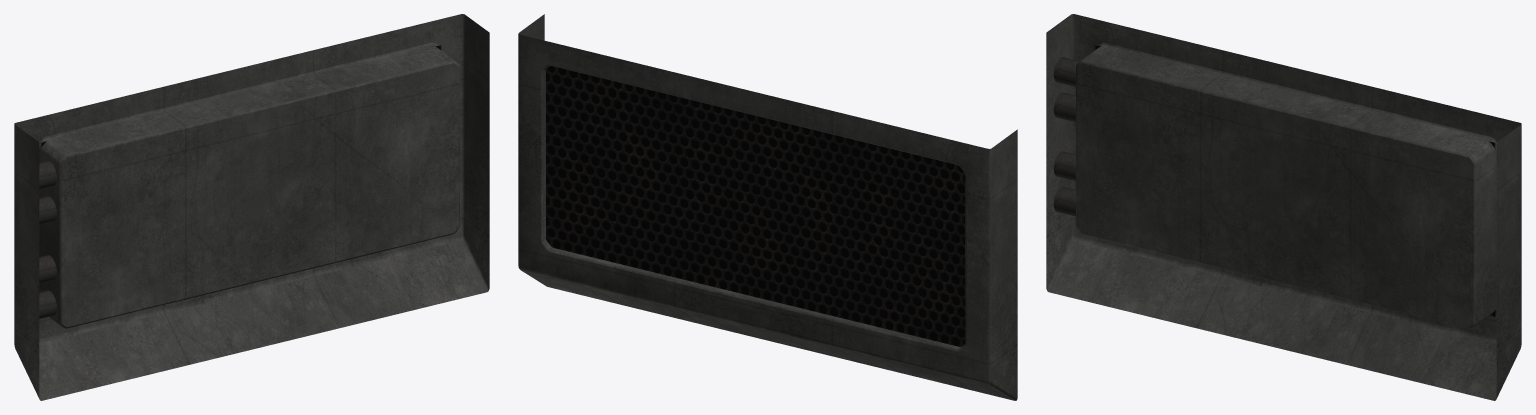
Rendered from wall_peace_1.fbx.
The picture shows the model from 3 angles, left to right: view 1: azimuth 30°, elevation 25°; view 2: azimuth 150°, elevation 25°; view 3: azimuth 330°, elevation 25°; orthographic projection. The views are drawn at different scales.
Visible parts, largest first — view 1: wall_peace_1; view 2: wall_peace_1; view 3: wall_peace_1.
Part boxes in pixels (left/top/right/bottom): wall_peace_1: left=14, top=14, right=489, bottom=400; wall_peace_1: left=518, top=14, right=1017, bottom=400; wall_peace_1: left=1046, top=14, right=1521, bottom=400.
Bounding box in the file's own units: 4 × 0.4 × 2.2.
